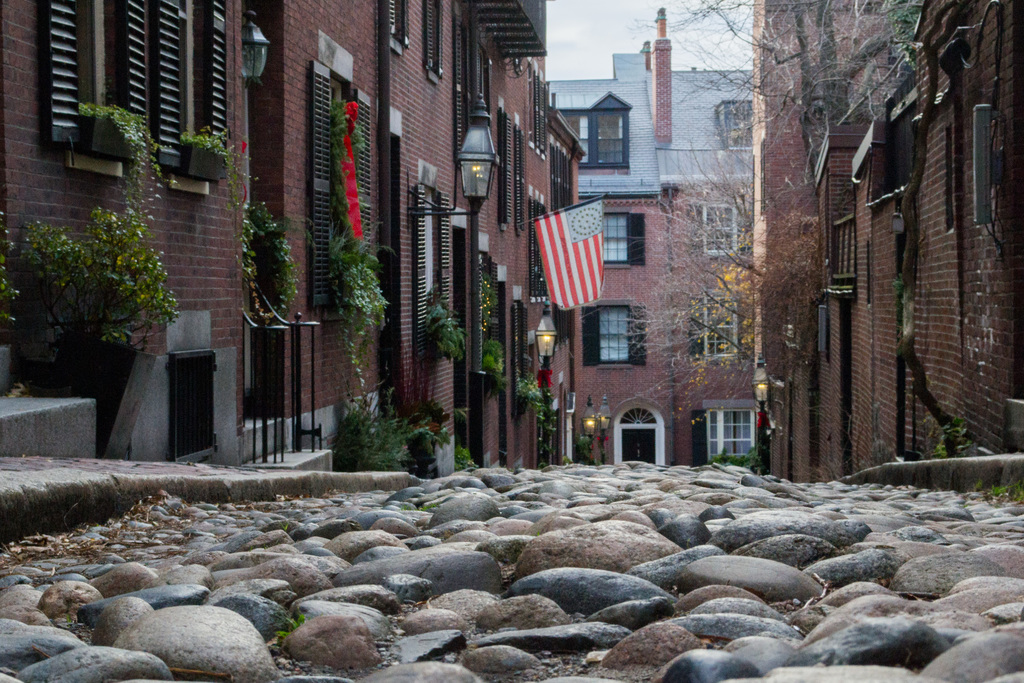Tree: (577, 0, 970, 453)
